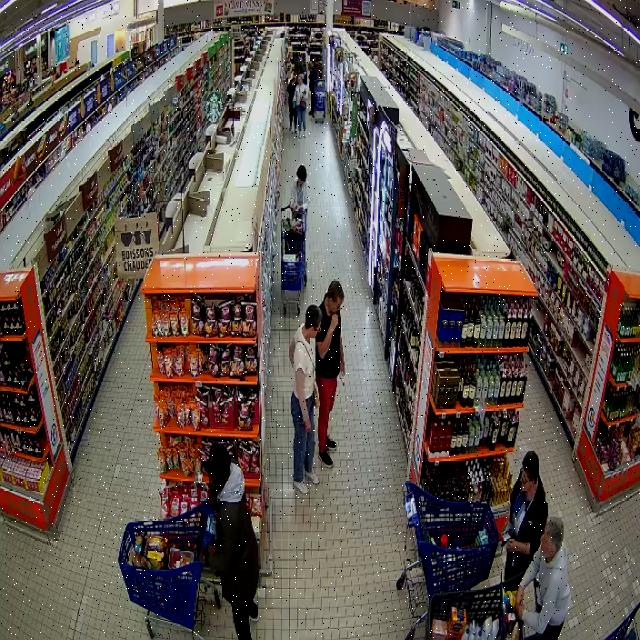article: (499, 528, 514, 544), (338, 372, 345, 386)
bags: (313, 385, 319, 407)
hands: (516, 587, 524, 611), (330, 313, 339, 331), (507, 538, 515, 553), (516, 604, 524, 619), (340, 361, 345, 376), (305, 418, 310, 433), (291, 204, 298, 213)
person: (203, 444, 258, 639), (516, 518, 571, 639), (503, 450, 547, 580), (289, 304, 319, 493), (315, 280, 344, 467), (289, 164, 308, 212)
